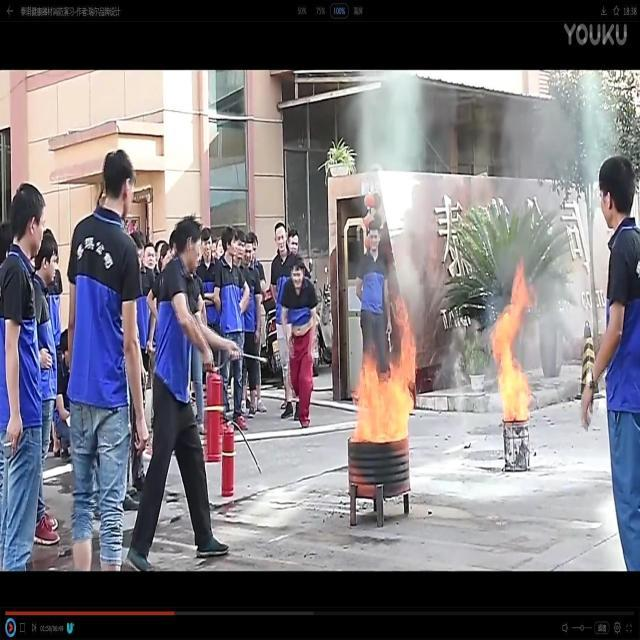Fire: (345, 292, 420, 444), (488, 258, 540, 423)
Smoke: (346, 71, 616, 272), (541, 280, 578, 442), (442, 321, 487, 438)
